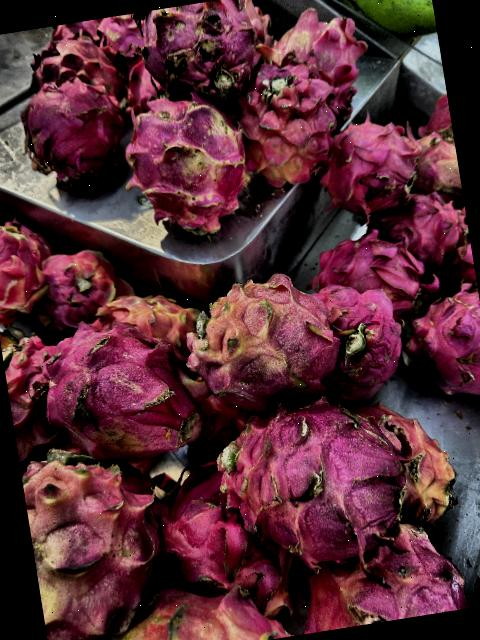buah-naga-belum-matang: (18, 431, 174, 640), (176, 269, 336, 416), (124, 92, 256, 248), (71, 574, 285, 640), (364, 394, 462, 530)
buah-naga-matang: (202, 378, 420, 574), (34, 312, 209, 474), (290, 528, 475, 634), (306, 212, 446, 326), (234, 59, 350, 196), (306, 266, 409, 399), (129, 0, 261, 102), (270, 5, 382, 119), (22, 70, 134, 184), (317, 112, 424, 217), (394, 280, 480, 409), (25, 243, 134, 328), (22, 32, 127, 118), (371, 185, 472, 268), (2, 338, 68, 459), (0, 206, 57, 316)
